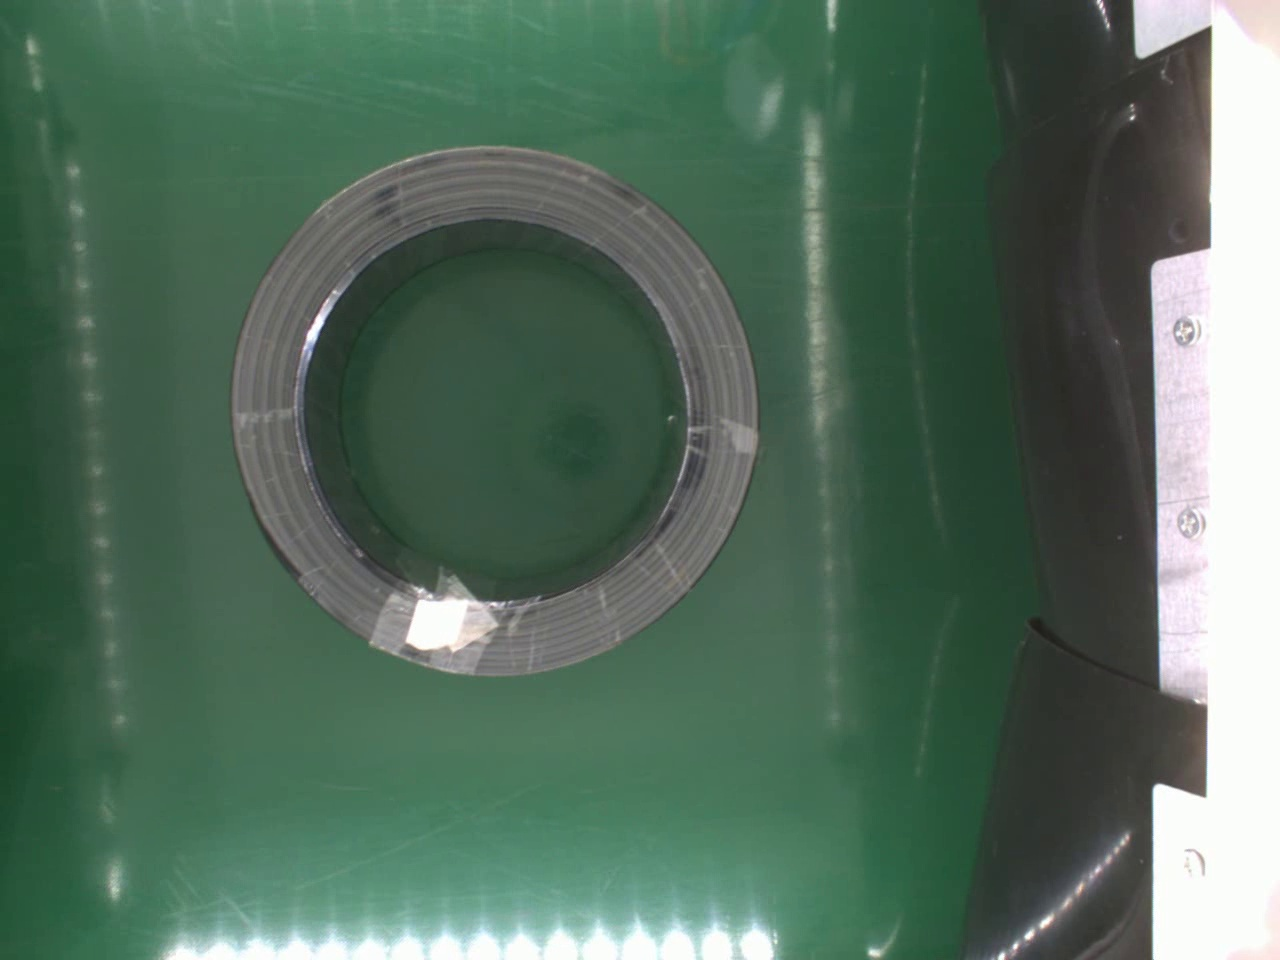black: (227, 142, 761, 674)
